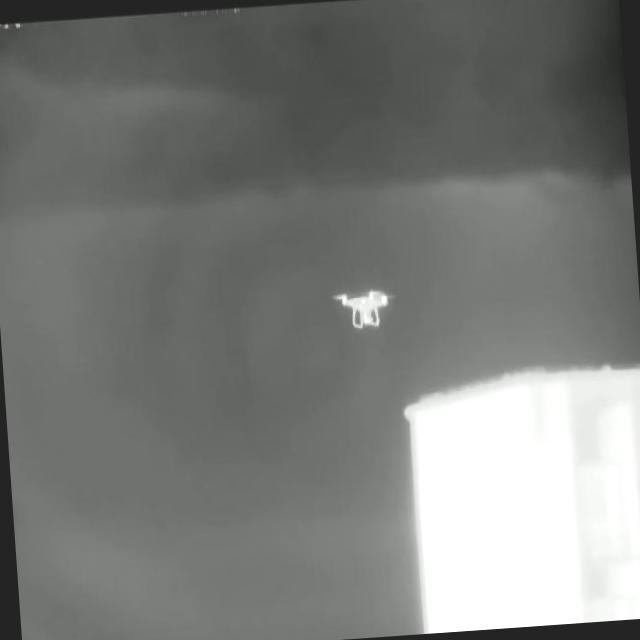DRONE: (330, 287, 398, 332)
